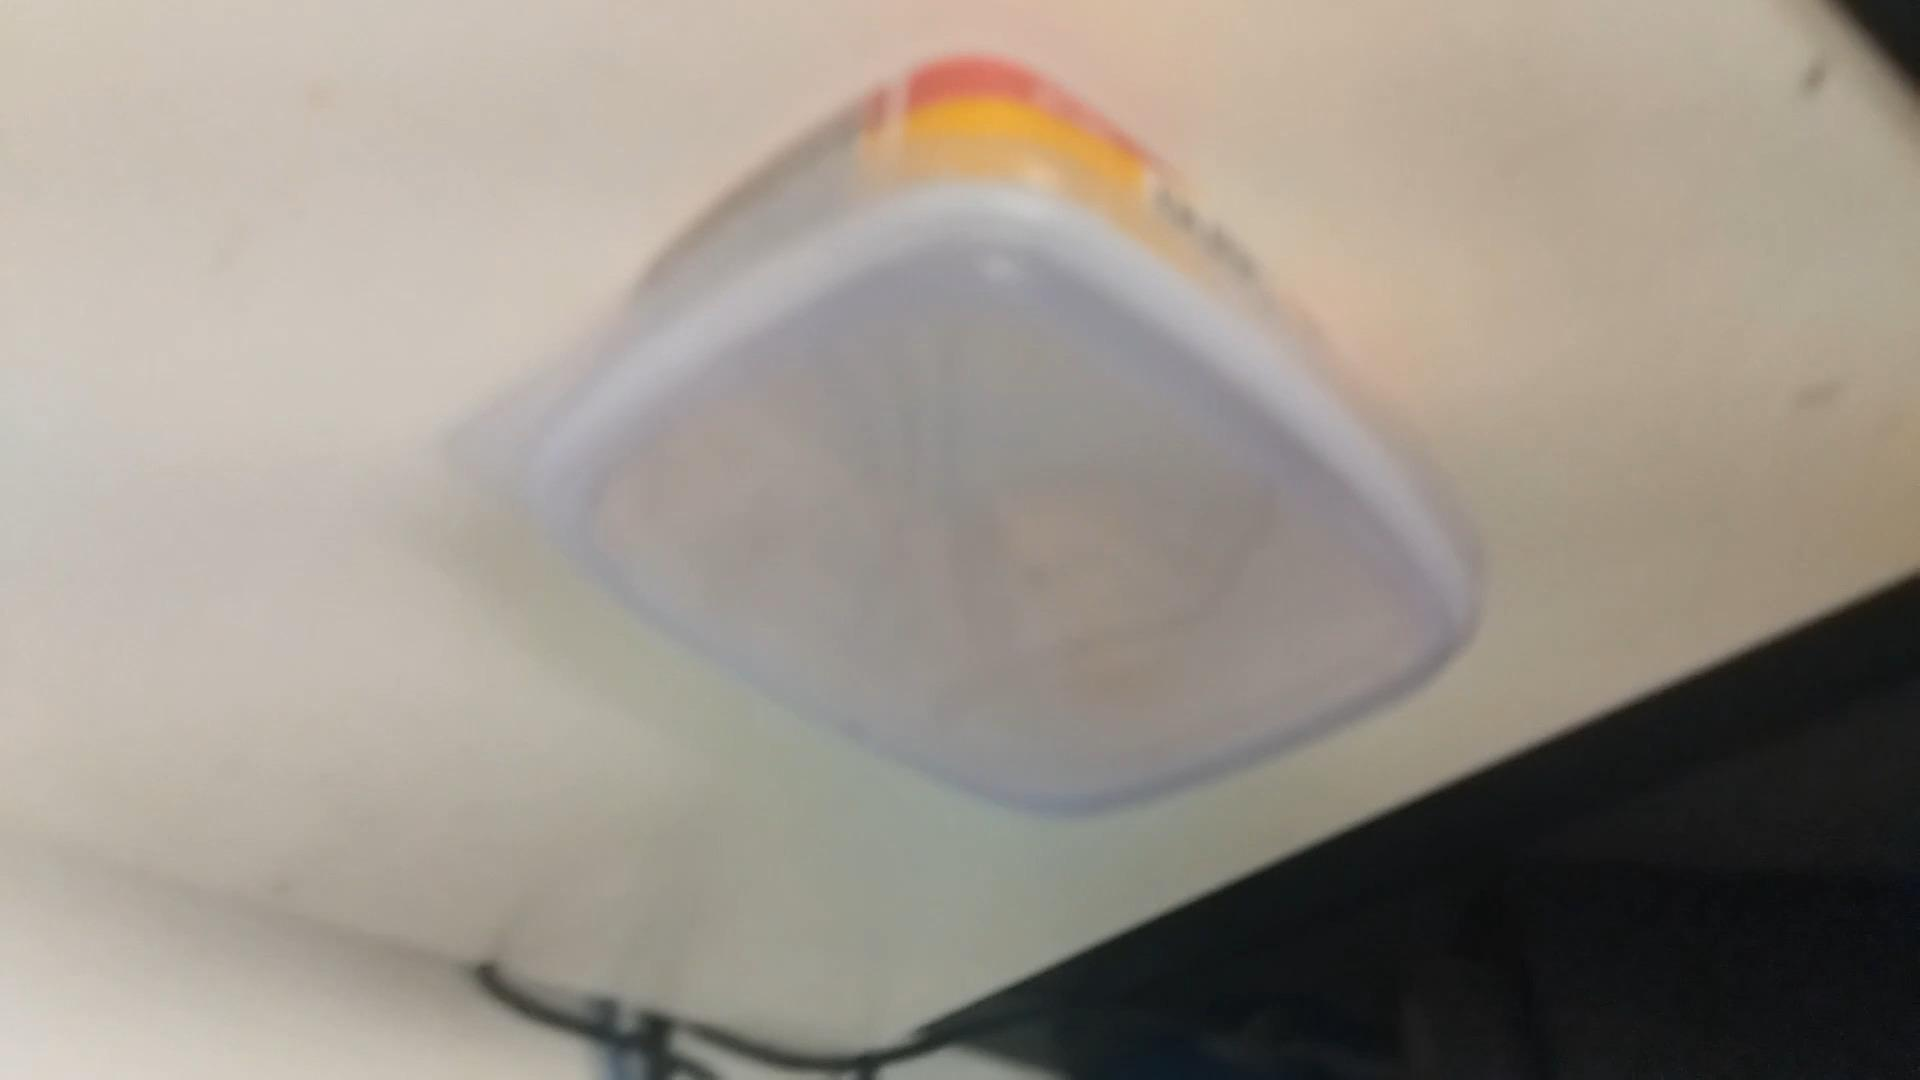butter: (446, 54, 1487, 832)
